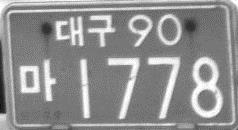0: (156, 13, 183, 45)
1: (77, 55, 93, 119)
7: (104, 55, 141, 121), (146, 54, 181, 120)
8: (189, 55, 225, 118)
9: (127, 13, 153, 47)
대구_O: (54, 13, 117, 48)
마: (17, 56, 57, 103)
